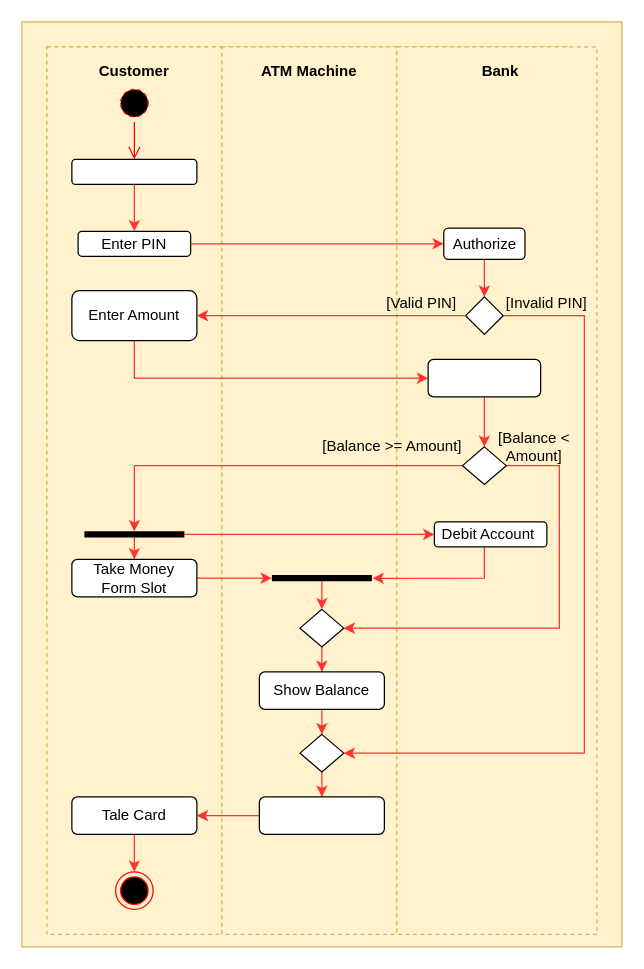
This 644x969 diagram has some shape labels left out. Each missing label, with the centre of its shape:
Check Account Balance: [484,377]
Eject Card: [321,815]
Insert Card: [134,171]
